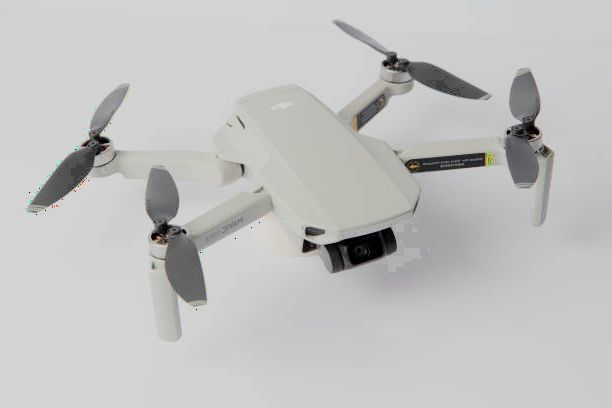Drone: (26, 14, 556, 341)
